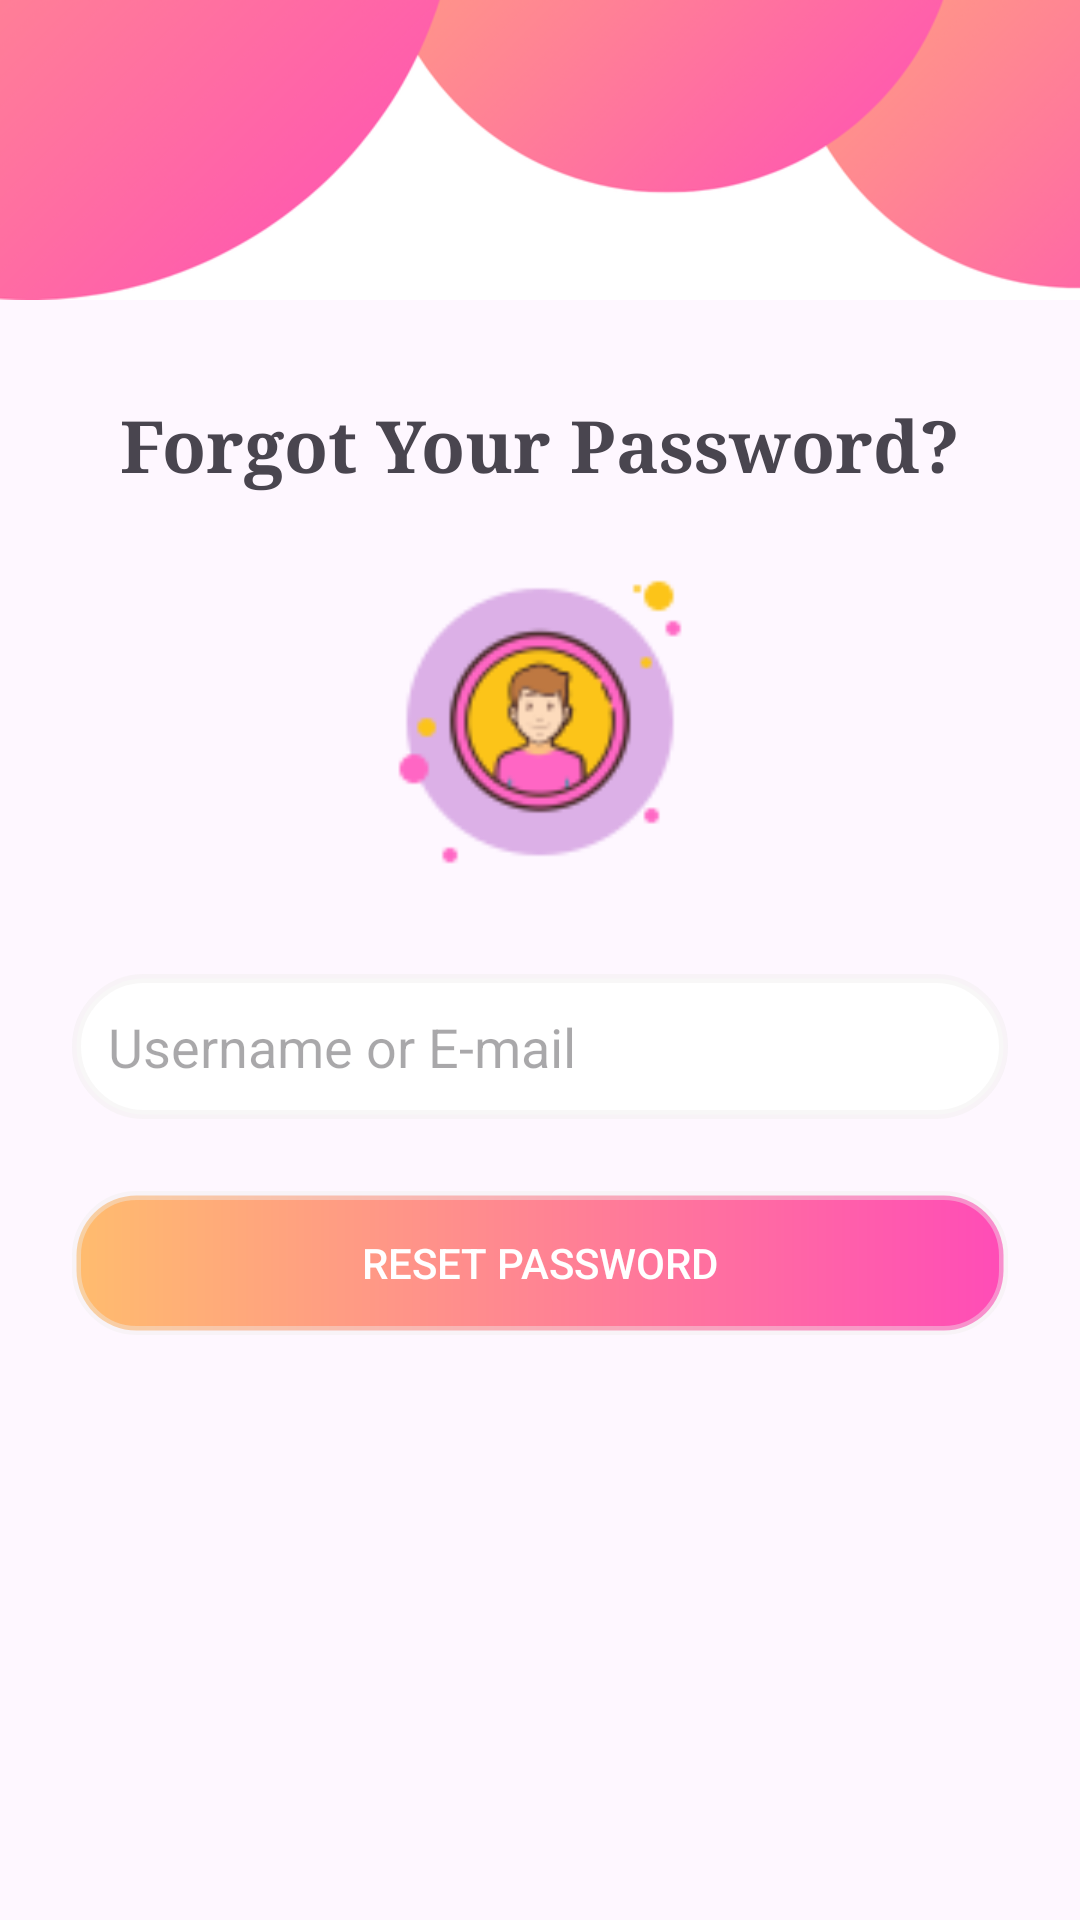

Screen size 1080w x 1920h. Icon name, then its center in pixels as (x=x, y=y):
account: (x=540, y=722)
